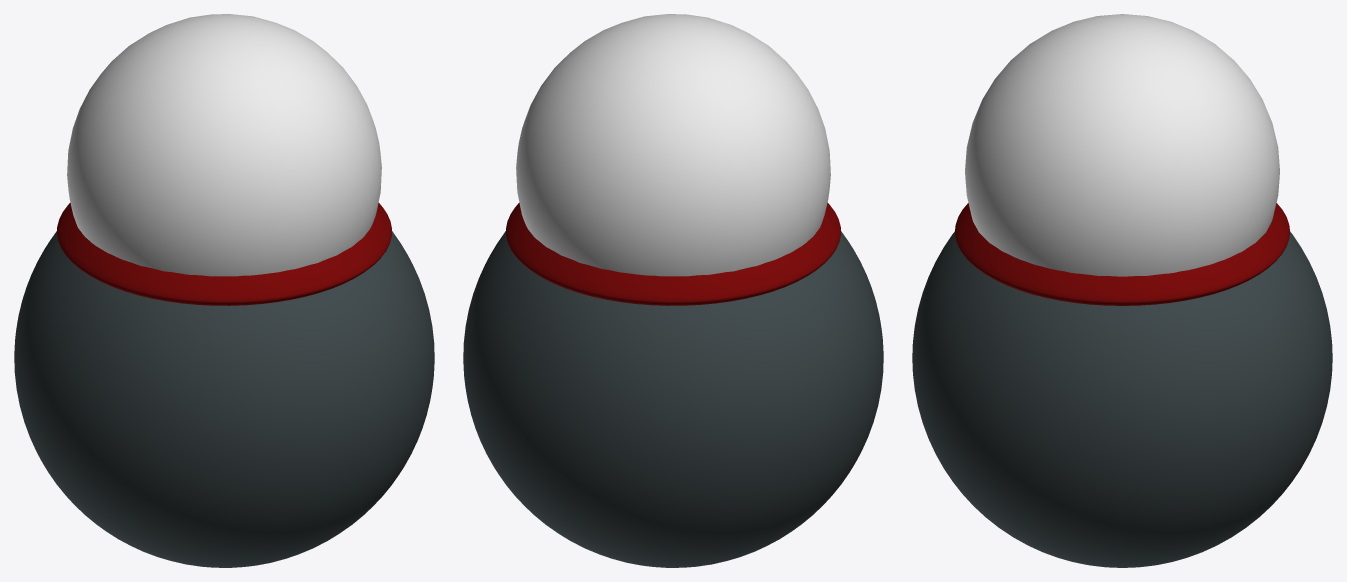
File: RoboBall.fbx
3 views of the same model, side by side, from view 1: azimuth 30°, elevation 25°; view 2: azimuth 150°, elevation 25°; view 3: azimuth 270°, elevation 25° (orthographic).
Visible parts, largest first — view 1: Ball_Body, Ball_Helmet, Ball_Scarf; view 2: Ball_Body, Ball_Helmet, Ball_Scarf; view 3: Ball_Body, Ball_Helmet, Ball_Scarf.
Boxes of the visible parts, x1,y1,x2,y2 form: Ball_Body: (14,231,434,567); Ball_Helmet: (67,14,381,276); Ball_Scarf: (57,203,391,305); Ball_Body: (463,231,883,567); Ball_Helmet: (516,14,830,276); Ball_Scarf: (506,203,840,305); Ball_Body: (912,231,1332,567); Ball_Helmet: (965,14,1279,276); Ball_Scarf: (955,203,1289,305).
Bounding box in the file's own units: 200 × 200 × 273.
